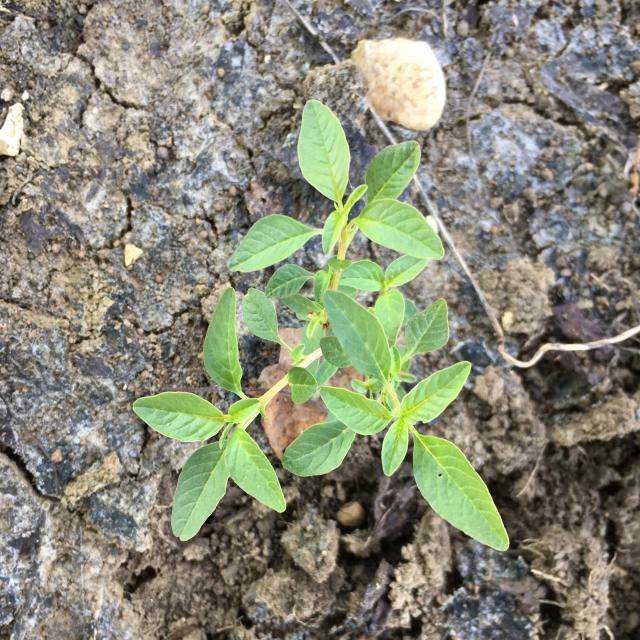Waterhemp: (132, 99, 510, 552)
